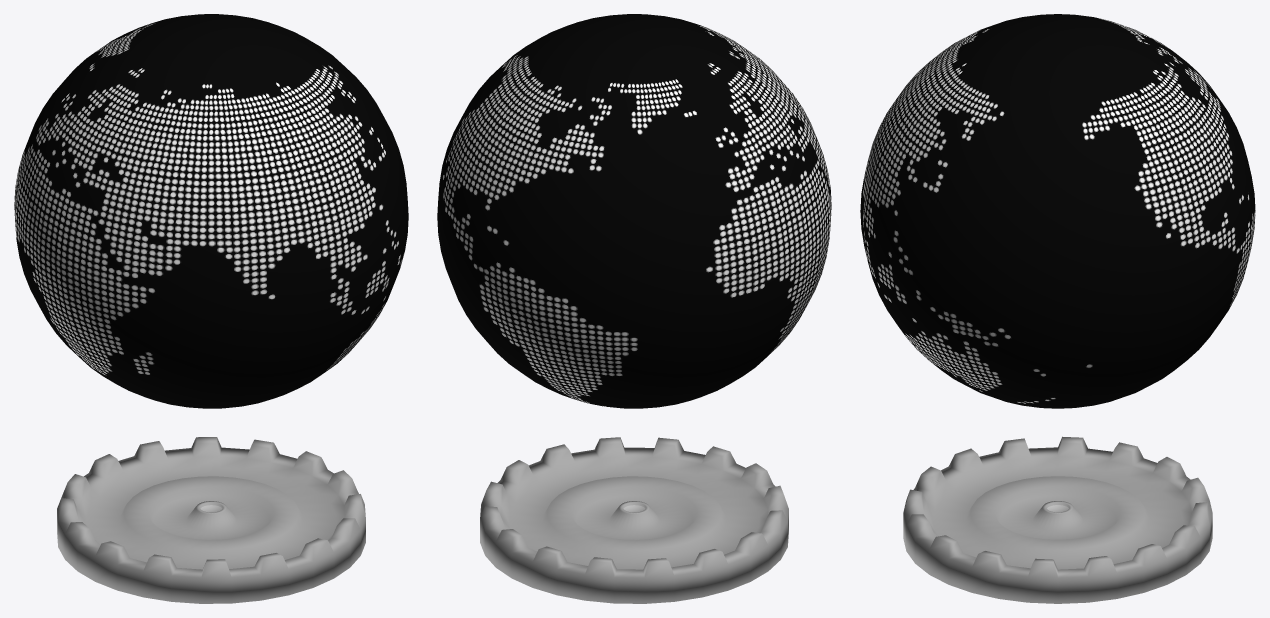
File: Earth.fbx
3 renders of one model, left to right at view 1: azimuth 30°, elevation 25°; view 2: azimuth 150°, elevation 25°; view 3: azimuth 270°, elevation 25°, orthographic.
Parts seen in each view (by area): view 1: Earth; view 2: Earth; view 3: Earth.
Boxes of the visible parts, x1,y1,x2,y2 form: Earth: (14,14,408,603); Earth: (437,14,831,603); Earth: (860,14,1255,603).
Size of the model in its own units: 250 by 353 by 250.
